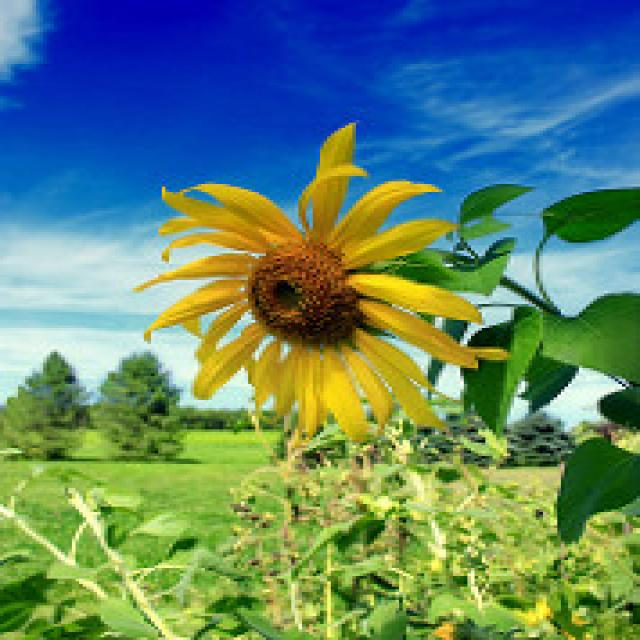sunflower: (119, 113, 521, 447)
